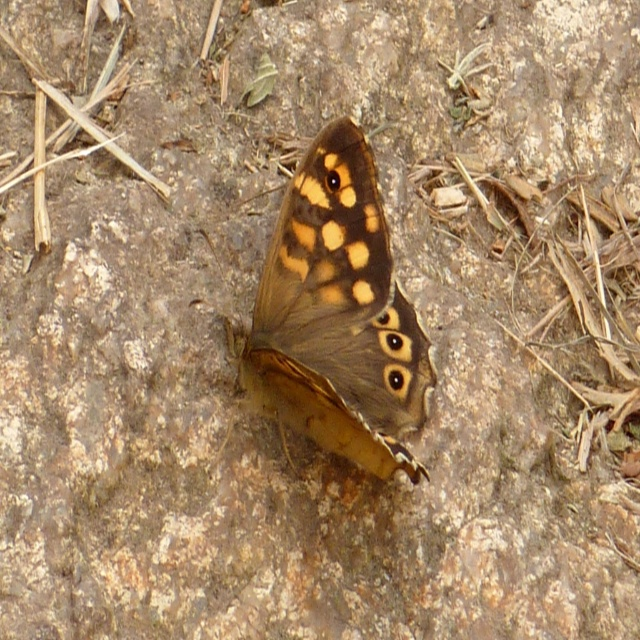Butterfly: (224, 106, 441, 514)
